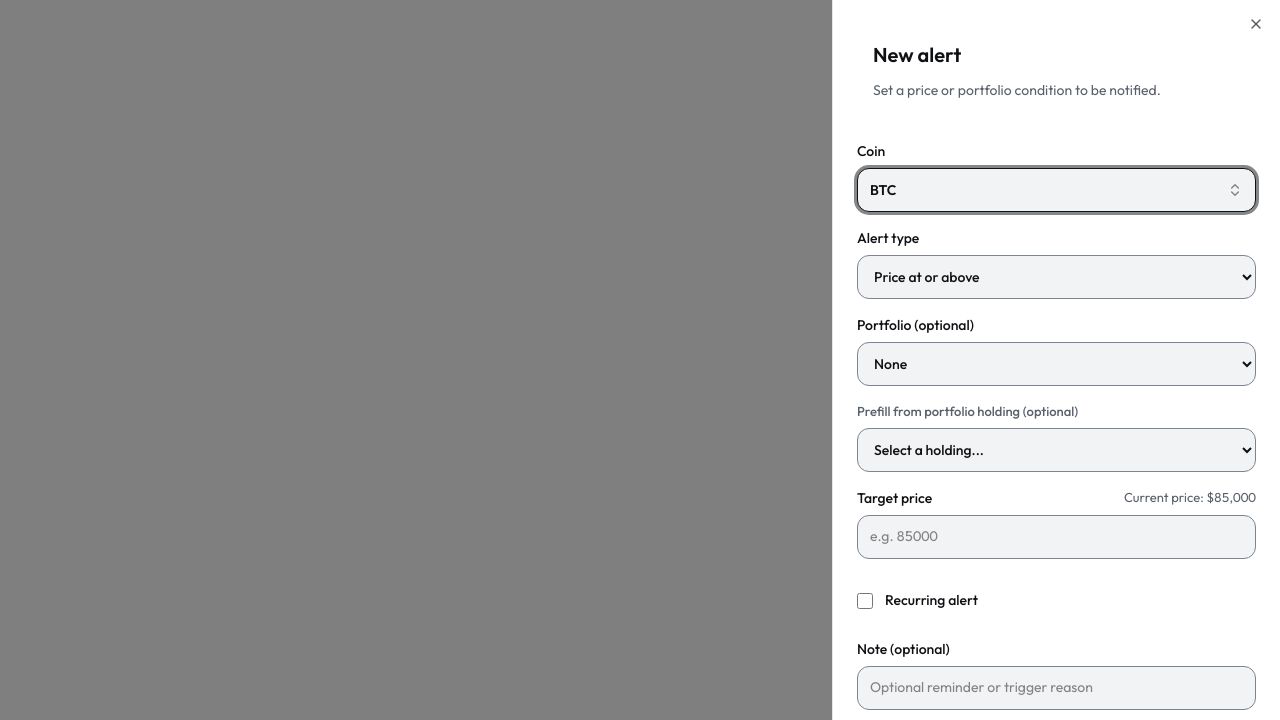
Scenario: AlertSheet › validates percent change bounds inline
The image size is (1280, 720).
Select "Price moves by a percent" in the dropdown labelled "Alert type" at {"x": 1056, "y": 277}, box [857,255,1256,299]
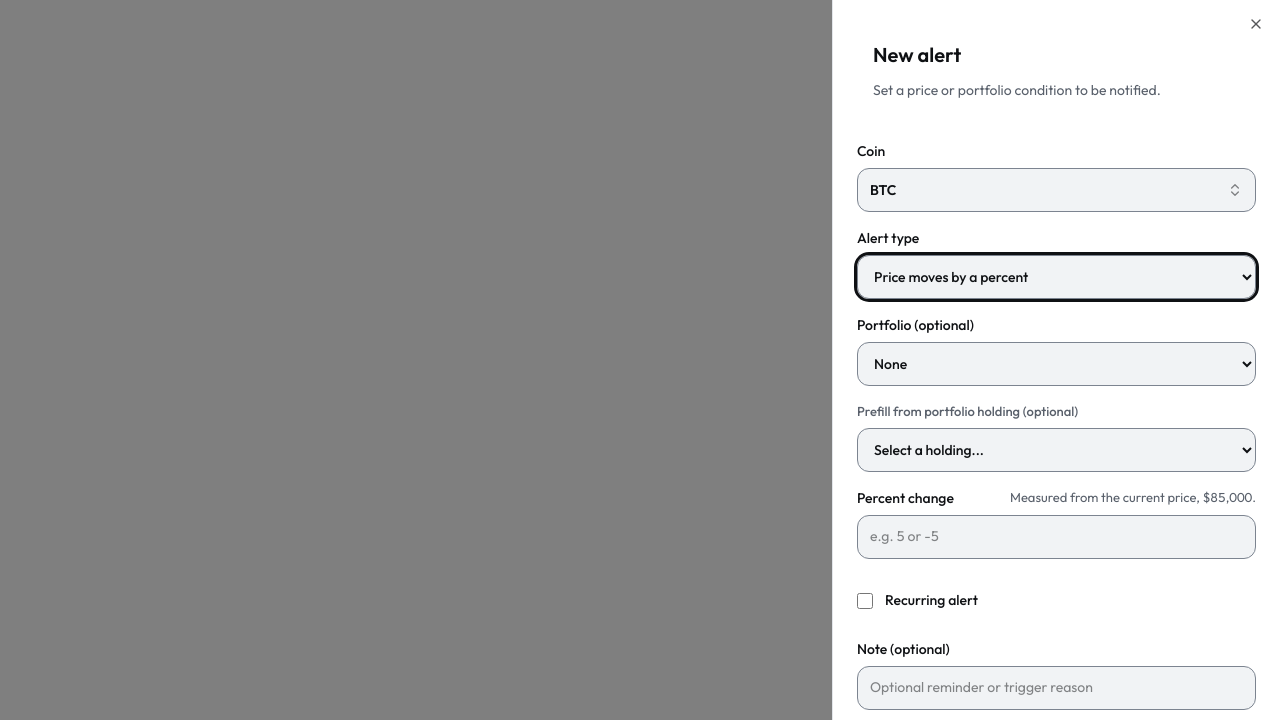
Type "0" into the number field labelled "Percent change" at {"x": 1056, "y": 536}, box [857,514,1256,558]
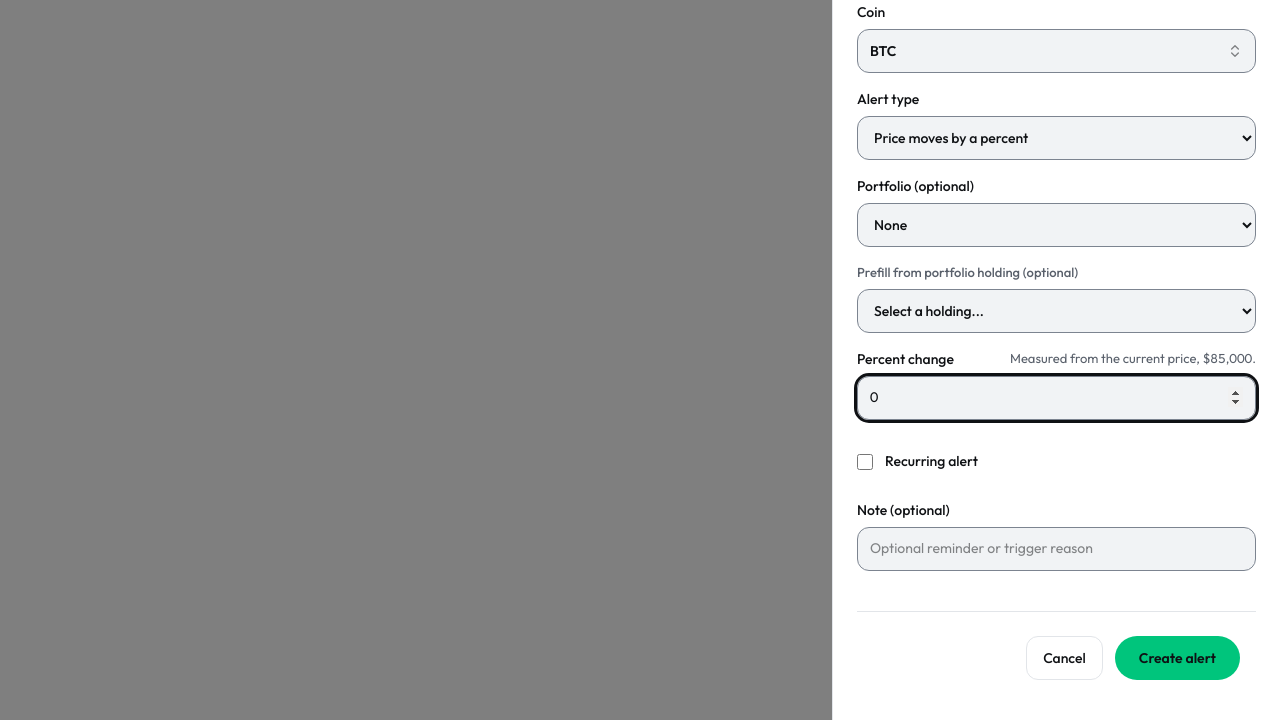
Click the button "Create alert" at {"x": 1177, "y": 658}, box [1115,636,1240,680]
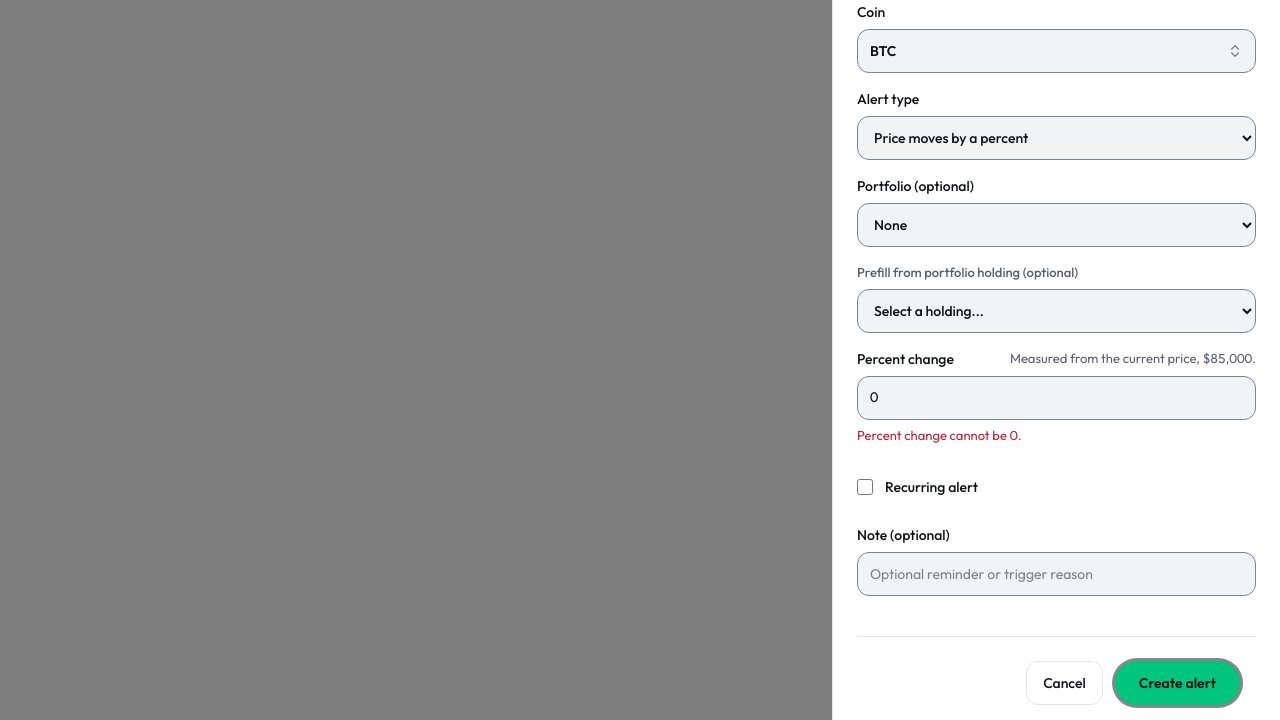
expect the text "Percent change cannot be 0." is shown: met, box [857,426,1022,442]
Replace the text in the number field labelled "Percent change" with "1500" at {"x": 1056, "y": 398}, box [857,376,1256,420]
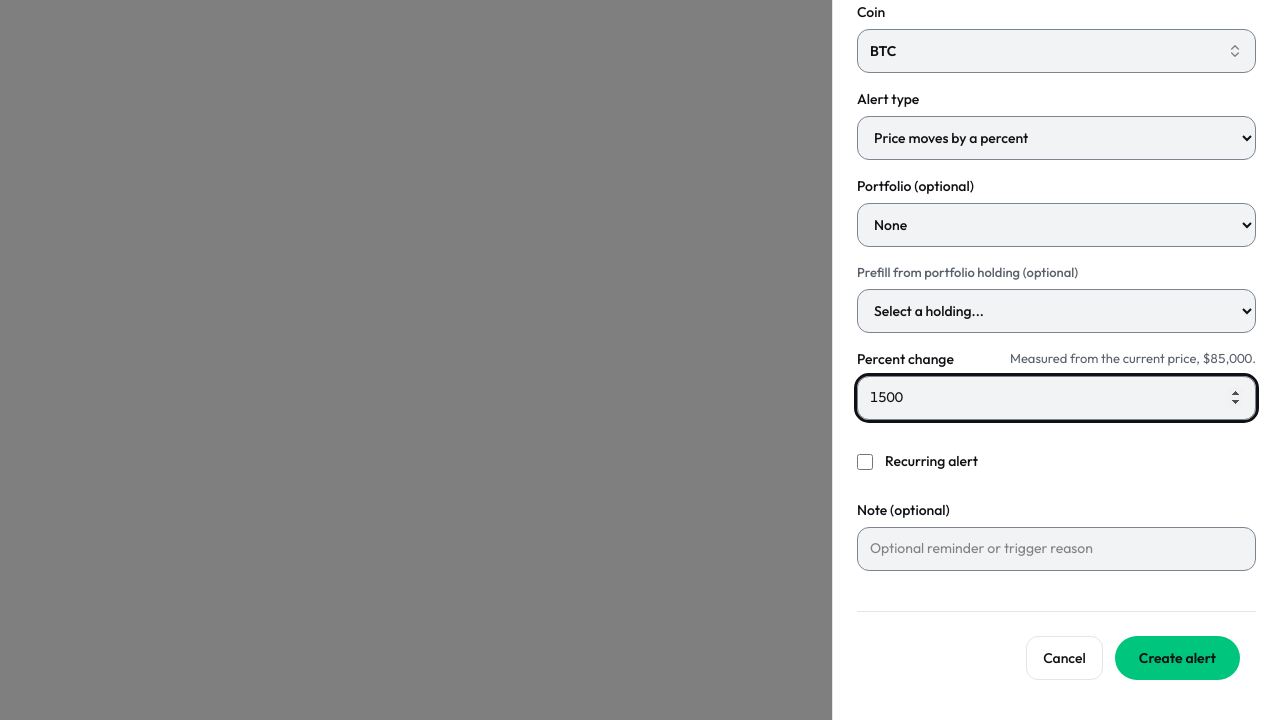
Click the button "Create alert" at {"x": 1177, "y": 658}, box [1115,636,1240,680]
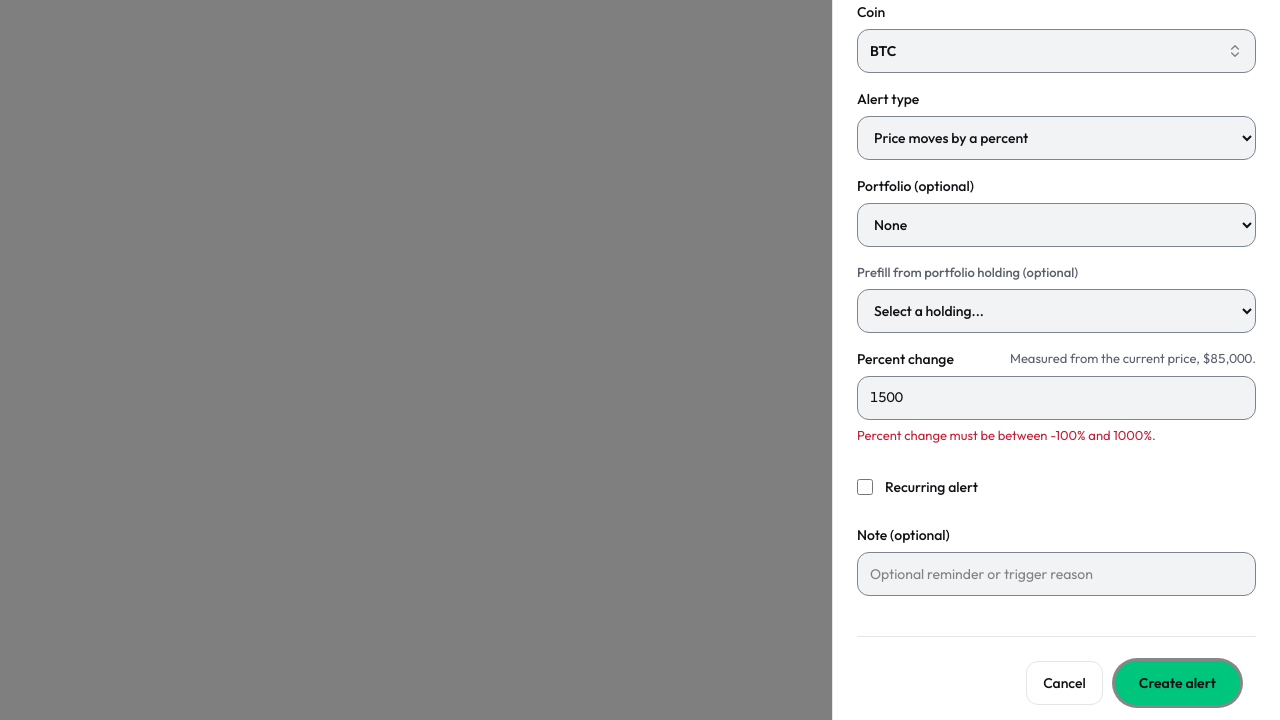
expect the text "Percent change must be between -100% and 1000%." is shown: met, box [857,426,1156,442]
